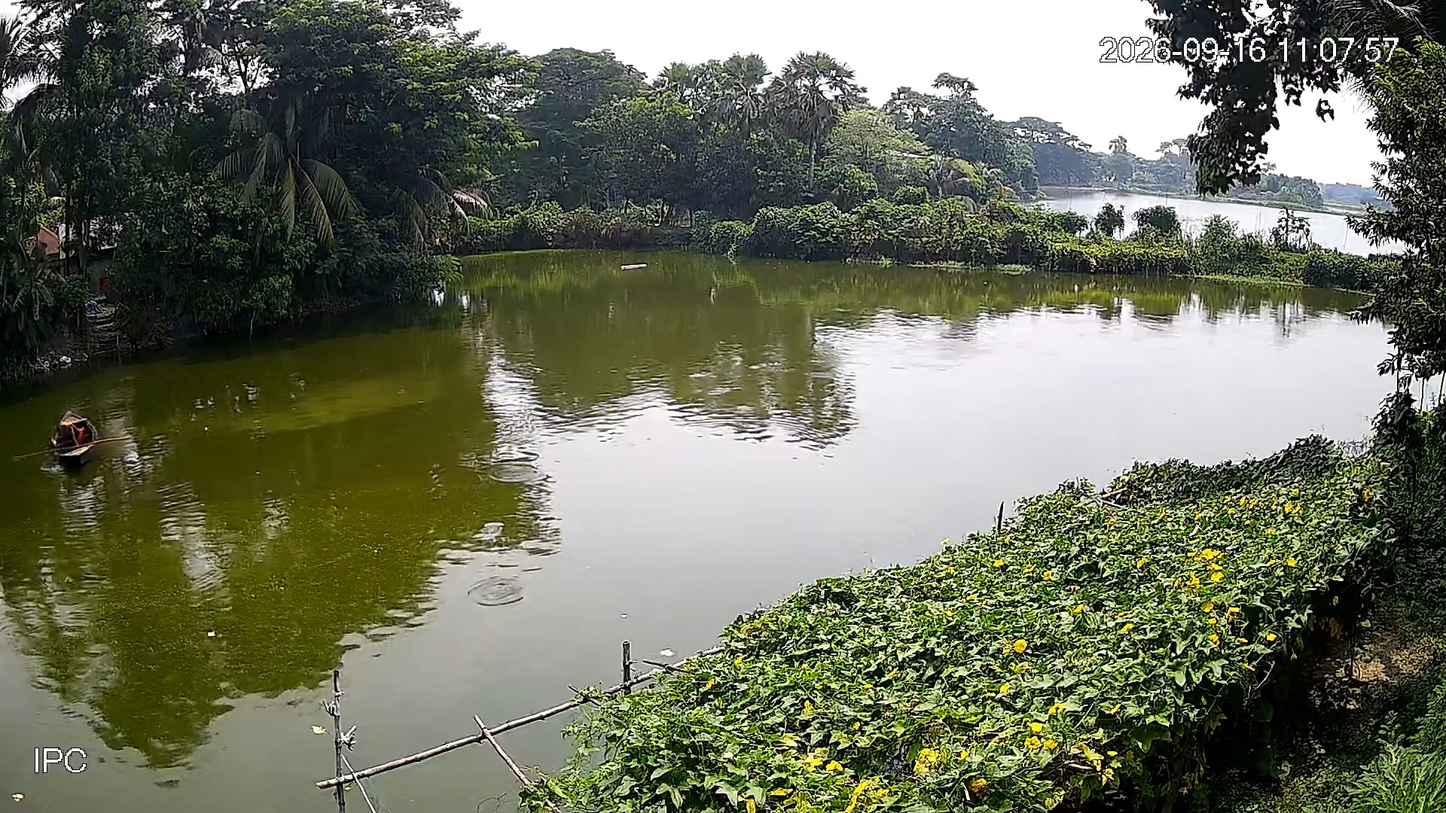ripple: (465, 561, 524, 619), (485, 445, 540, 501), (803, 358, 836, 391), (1076, 291, 1108, 323), (476, 515, 503, 542), (1044, 345, 1062, 364), (889, 360, 907, 378), (639, 432, 656, 449), (689, 368, 704, 384), (870, 362, 882, 374), (1078, 331, 1087, 340)
